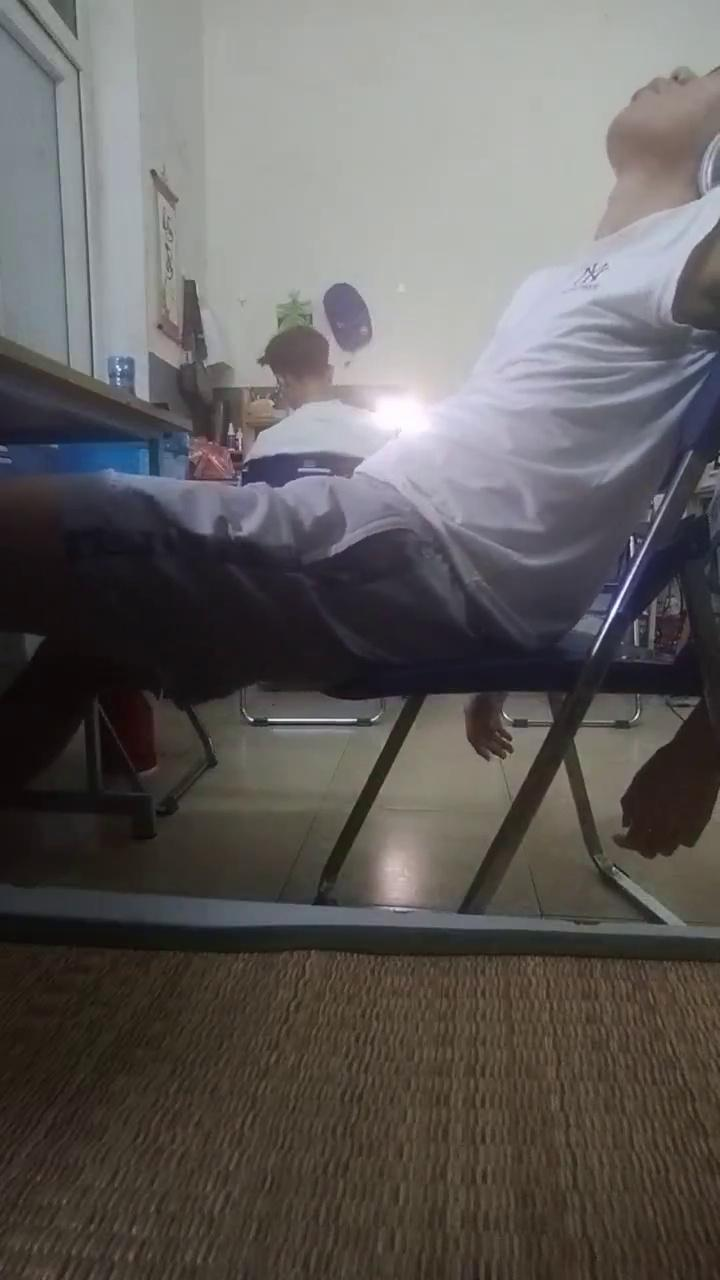BadPosture: (0, 67, 719, 803)
